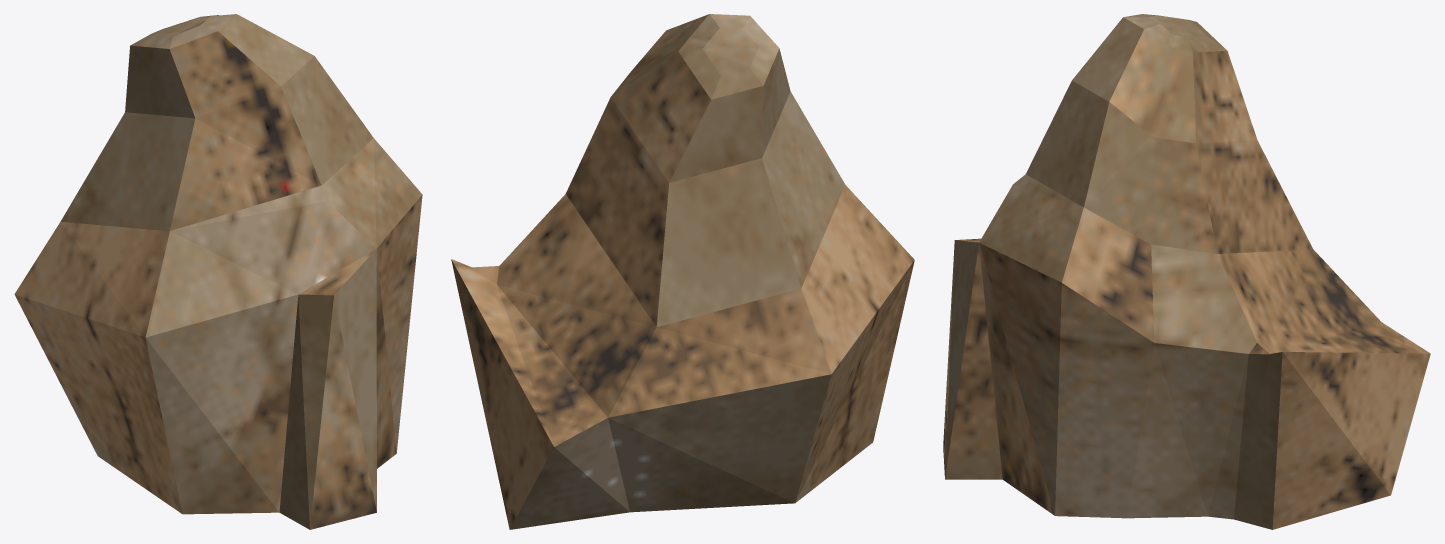
Rendered from Stone_D_Standard.fbx.
The picture shows the model from 3 angles, left to right: view 1: azimuth 30°, elevation 25°; view 2: azimuth 150°, elevation 25°; view 3: azimuth 270°, elevation 25°; orthographic projection. The views are drawn at different scales.
Visible parts, largest first — view 1: Stone_D_Standard; view 2: Stone_D_Standard; view 3: Stone_D_Standard.
Boxes of the visible parts, box(x1,y1,x2,y2) form: Stone_D_Standard: box(14, 14, 422, 529); Stone_D_Standard: box(451, 14, 914, 529); Stone_D_Standard: box(943, 14, 1430, 529).
Bounding box in the file's own units: 1.4 × 1.64 × 1.68.
